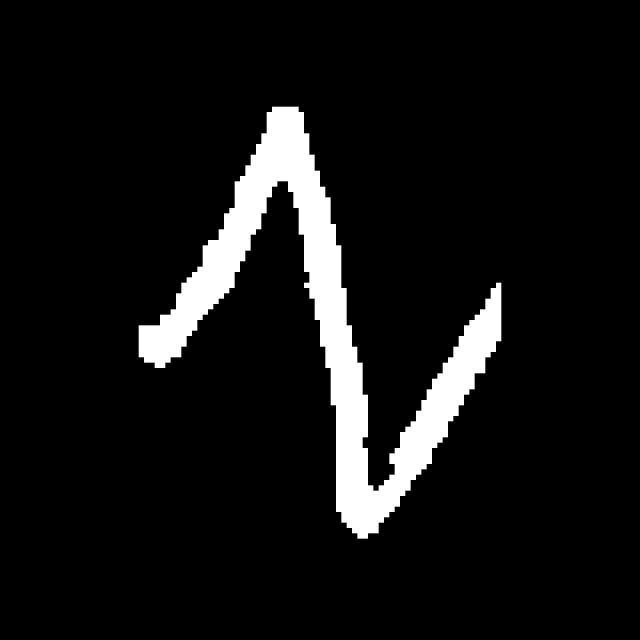resistor: (163, 67, 497, 559)
